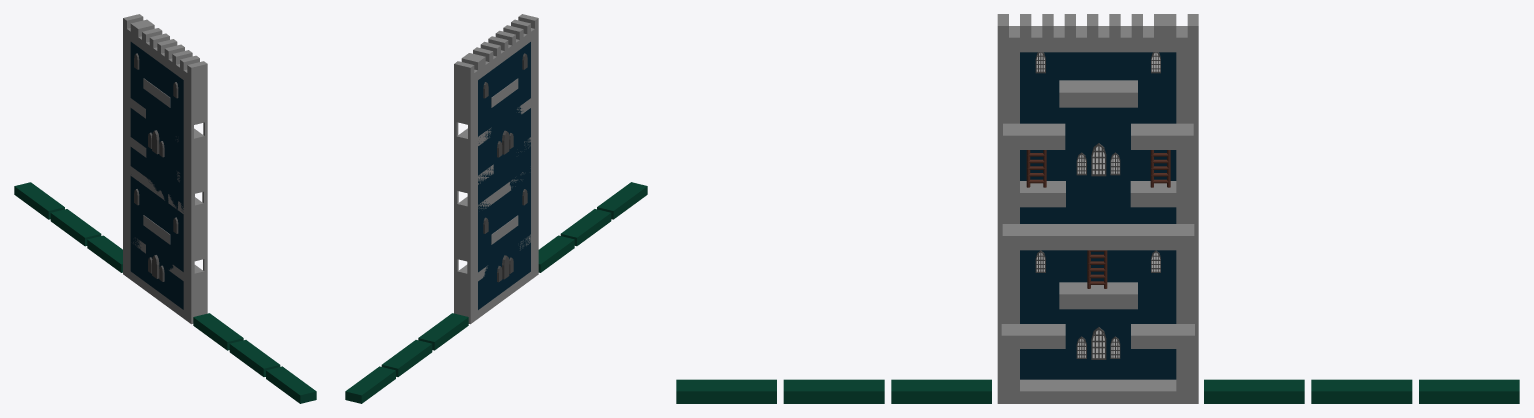
File: game-test.fbx
3 views of the same model, side by side, from view 1: azimuth 30°, elevation 25°; view 2: azimuth 150°, elevation 25°; view 3: azimuth 270°, elevation 25° (orthographic). The views are drawn at different scales.
Parts seen in each view (by area): view 1: Cube.004, Cube, Cube.007, Cube.008, Cube.002, Cube.001, Cube.006; view 2: Cube.004, Cube.008, Cube.001, Cube.006, Cube, Cube.007, Cube.002; view 3: Cube.004, Cube.001, Cube.007, Cube, Cube.002, Cube.006, Cube.008, Cylinder.
Part boxes in pixels (box(x1,y1,x2,y2)): Cube.004: box(123, 14, 207, 324); Cube: box(266, 366, 316, 403); Cube.007: box(50, 209, 101, 246); Cube.008: box(14, 182, 64, 219); Cube.002: box(193, 313, 243, 350); Cube.001: box(229, 340, 280, 376); Cube.006: box(87, 235, 122, 272); Cube.004: box(454, 14, 538, 324); Cube.008: box(345, 366, 395, 403); Cube.001: box(560, 209, 611, 246); Cube.006: box(418, 313, 468, 350); Cube: box(597, 182, 647, 219); Cube.007: box(381, 340, 432, 376); Cube.002: box(538, 235, 574, 272); Cube.004: box(997, 14, 1198, 403); Cube.001: box(783, 379, 884, 403); Cube.007: box(1311, 379, 1412, 403); Cube: box(676, 379, 776, 403); Cube.002: box(891, 379, 991, 403); Cube.006: box(1204, 379, 1304, 403); Cube.008: box(1419, 379, 1519, 403); Cylinder: box(1026, 150, 1170, 288).
Size of the model in its own units: 152 by 1924 by 3889.
